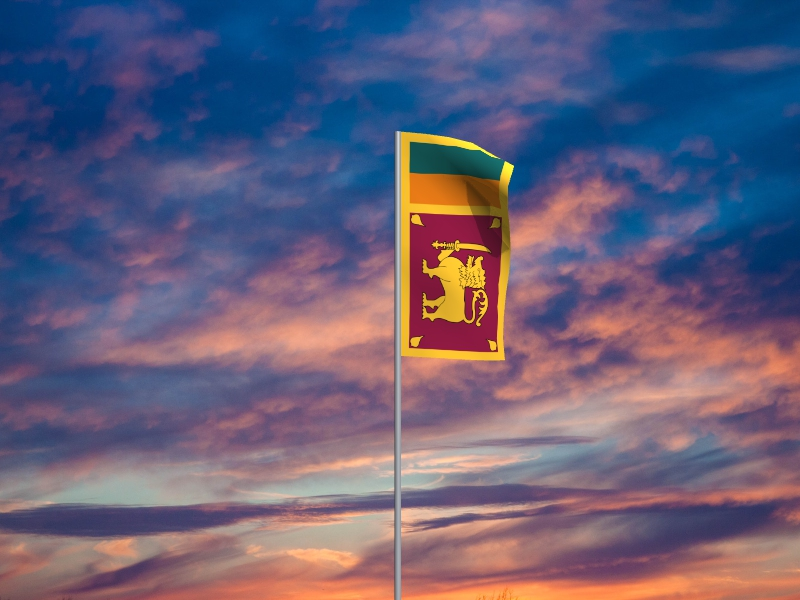lk: (402, 132, 516, 362)
